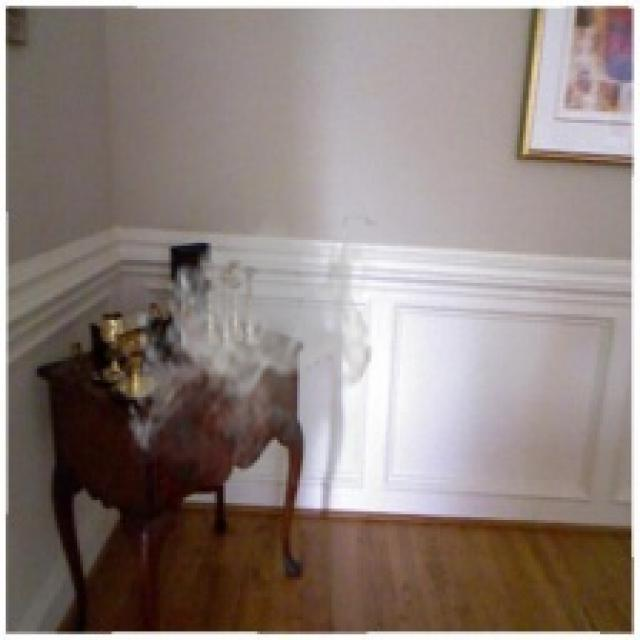Smoke: (120, 208, 377, 486)
